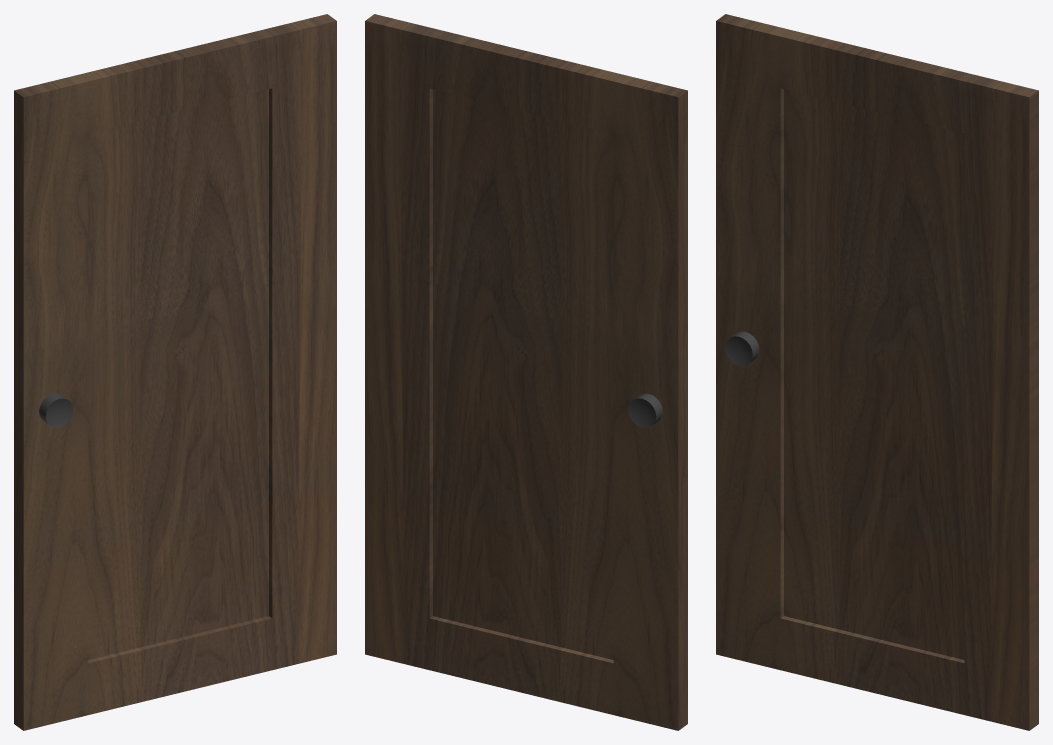
The model's file is Door.fbx.
The picture shows the model from 3 angles, left to right: view 1: azimuth 30°, elevation 25°; view 2: azimuth 150°, elevation 25°; view 3: azimuth 330°, elevation 25°; orthographic projection.
Parts seen in each view (by area): view 1: Door; view 2: Door; view 3: Door.
Part boxes in pixels (<box>): Door: <box>14,14,336,730</box>; Door: <box>365,14,687,730</box>; Door: <box>716,14,1038,730</box>.
Bounding box in the file's own units: 4.37 × 8.45 × 0.5483.
Materials: 1 (1 with a texture image).
